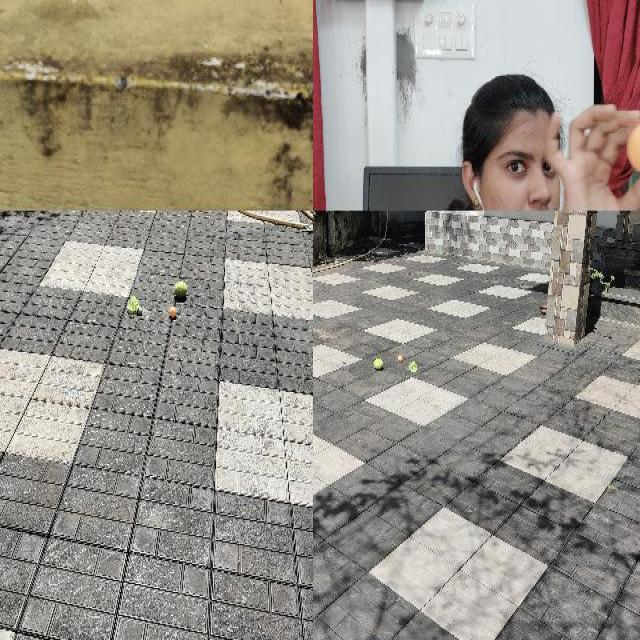ping-pong-ball: (627, 124, 639, 173), (168, 306, 176, 315), (395, 354, 403, 362)
